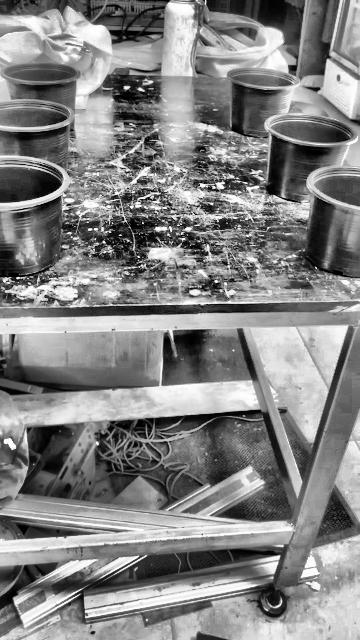pot: (0, 156, 67, 277), (265, 113, 357, 201), (306, 167, 360, 279), (0, 99, 74, 170), (229, 69, 300, 133), (1, 63, 79, 111)
